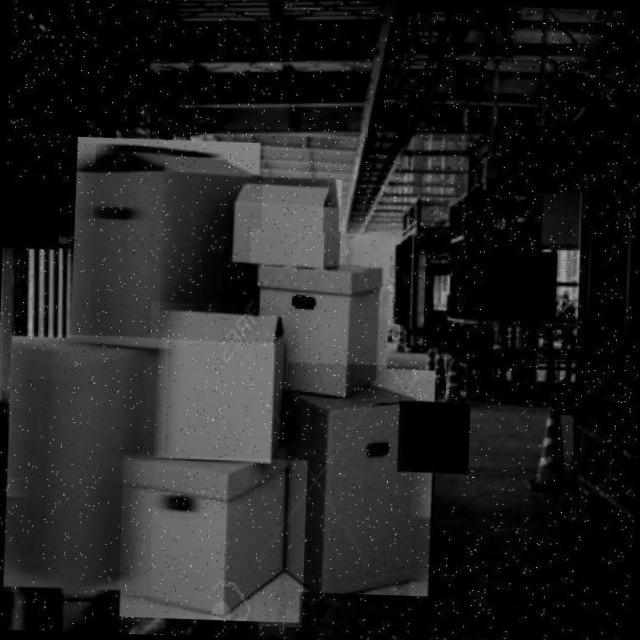box: (66, 132, 264, 388), (2, 332, 168, 596), (280, 362, 438, 602), (117, 454, 307, 627), (244, 228, 394, 406), (144, 302, 298, 472), (227, 174, 346, 278)
